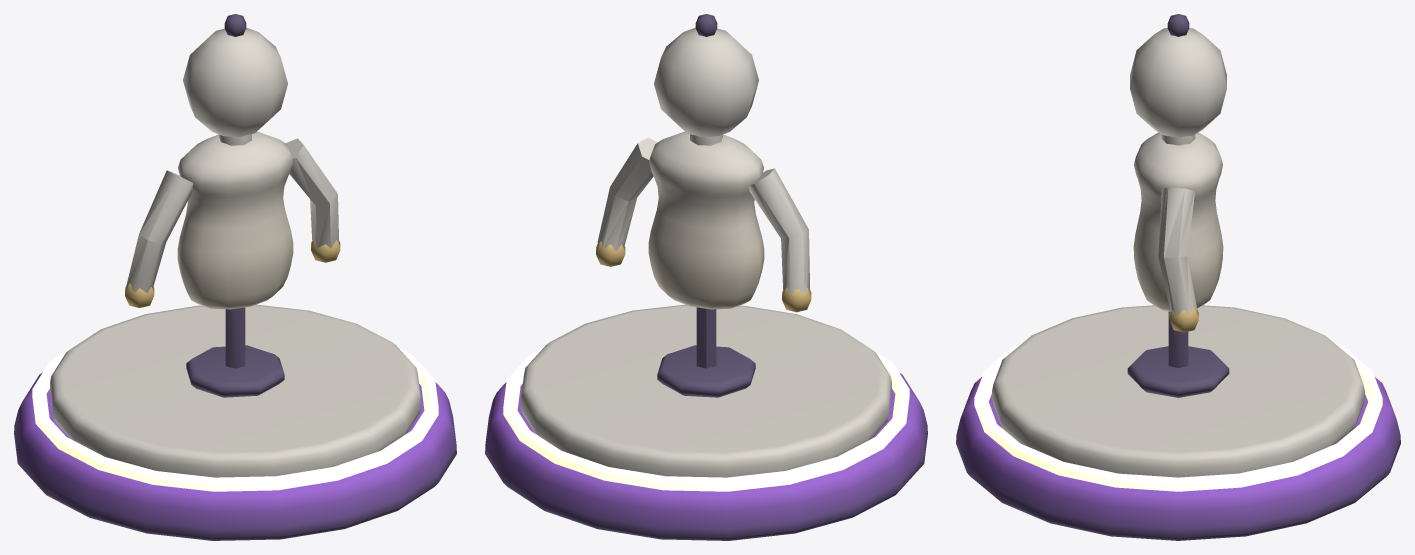
The model's file is skinPodium.glb.
3 views of the same model, side by side, from view 1: azimuth 30°, elevation 25°; view 2: azimuth 150°, elevation 25°; view 3: azimuth 270°, elevation 25° (orthographic).
Parts seen in each view (by area): view 1: Body, Glow_FFE066; view 2: Body, Glow_FFE066; view 3: Body, Glow_FFE066.
Boxes of the visible parts, x1,y1,x2,y2 form: Body: [14, 14, 456, 540]; Glow_FFE066: [32, 340, 438, 491]; Body: [485, 14, 927, 540]; Glow_FFE066: [503, 340, 909, 491]; Body: [956, 14, 1400, 540]; Glow_FFE066: [974, 343, 1382, 491].
Bounding box in the file's own units: 7.88 × 8.52 × 7.88.
